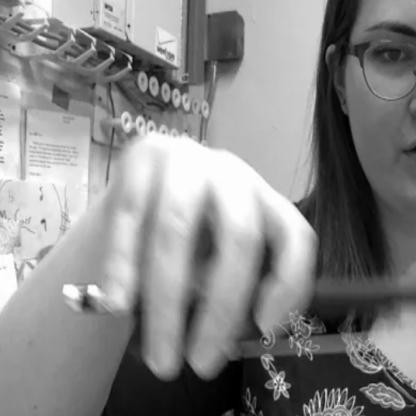good: (101, 117, 327, 385)
